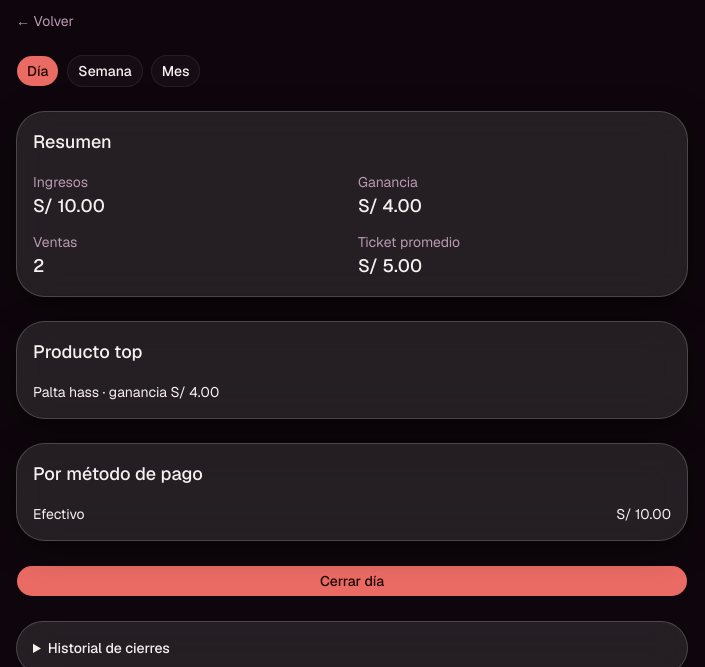
Test: KpisPage › closes the day and shows a toast
Click the button "Cerrar día". click: (352, 581)
box: 16,565 -> 688,597
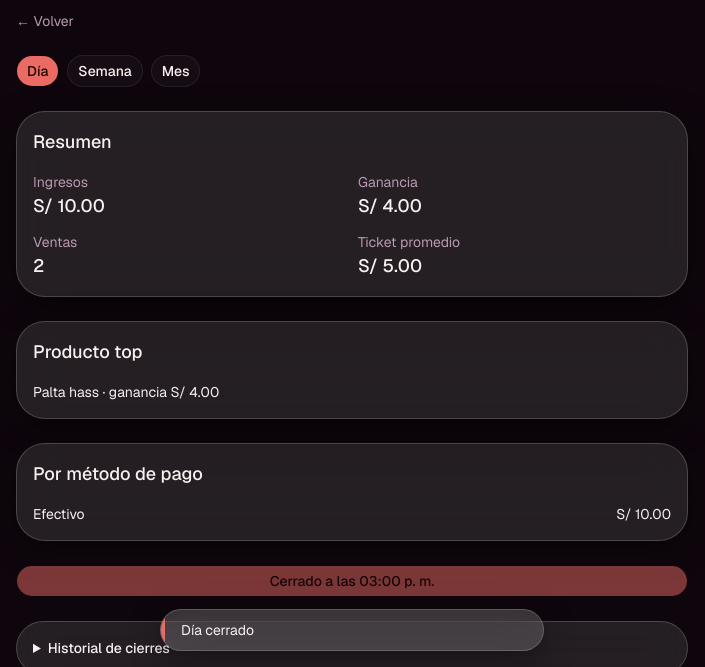
Check: the text "Día cerrado" is shown, box 160,609 -> 544,651
Check: the button "Cerrado a las 03:00 p. m." is disabled, box 16,565 -> 688,597
